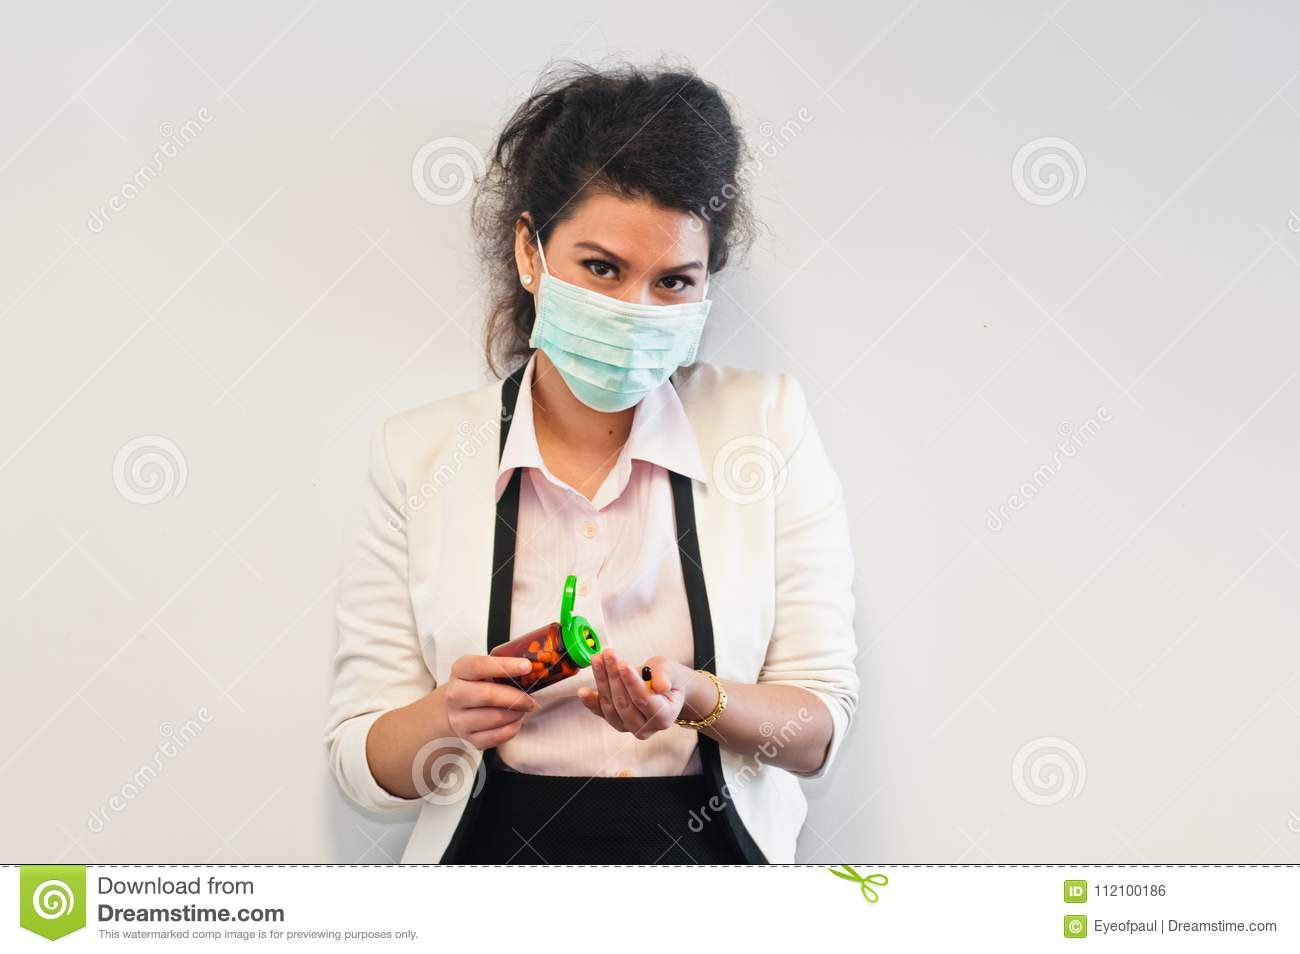mask: (527, 278, 702, 414)
